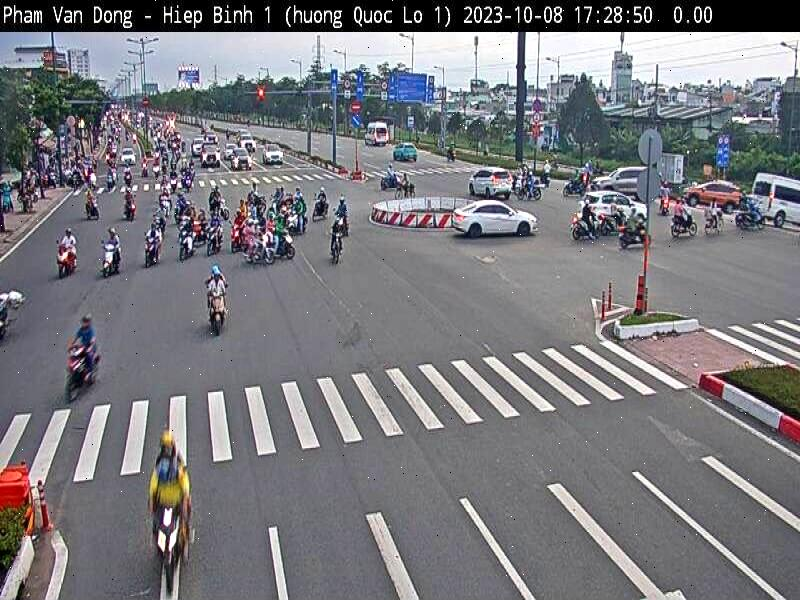bus: (750, 165, 800, 225), (366, 121, 391, 148)
car: (452, 198, 540, 236), (589, 167, 662, 196), (583, 188, 645, 218), (686, 178, 740, 211), (469, 163, 514, 194), (261, 139, 286, 167), (394, 142, 420, 164), (230, 144, 253, 167), (200, 143, 222, 167), (240, 136, 256, 153), (191, 136, 205, 154)
motorcycle: (146, 508, 192, 582), (57, 346, 108, 396), (243, 233, 278, 267), (270, 229, 304, 264), (616, 220, 652, 253), (54, 245, 84, 278), (208, 286, 227, 338), (736, 206, 766, 237), (571, 211, 601, 241), (668, 208, 698, 238), (205, 222, 228, 252), (98, 247, 120, 278), (177, 231, 195, 265), (328, 233, 346, 266), (227, 219, 244, 252), (143, 237, 159, 268), (290, 208, 305, 236), (516, 184, 544, 199)
